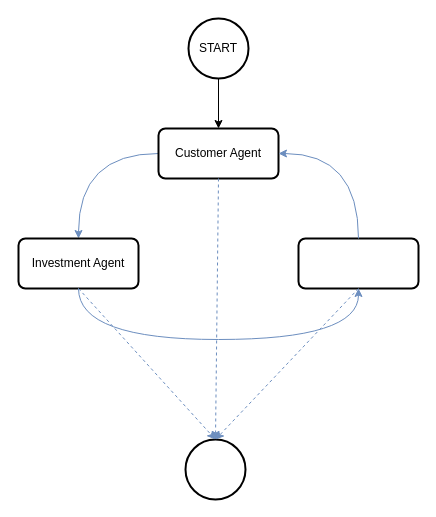
The diagram is 436 pixels wide and 517 high, and some of its shapes have lost their labels. Here are the shapes that lost their labels. From the top down, the centre of each, then its label:
At pixel 358 263: "Saving Agent".
At pixel 215 469: "END".
